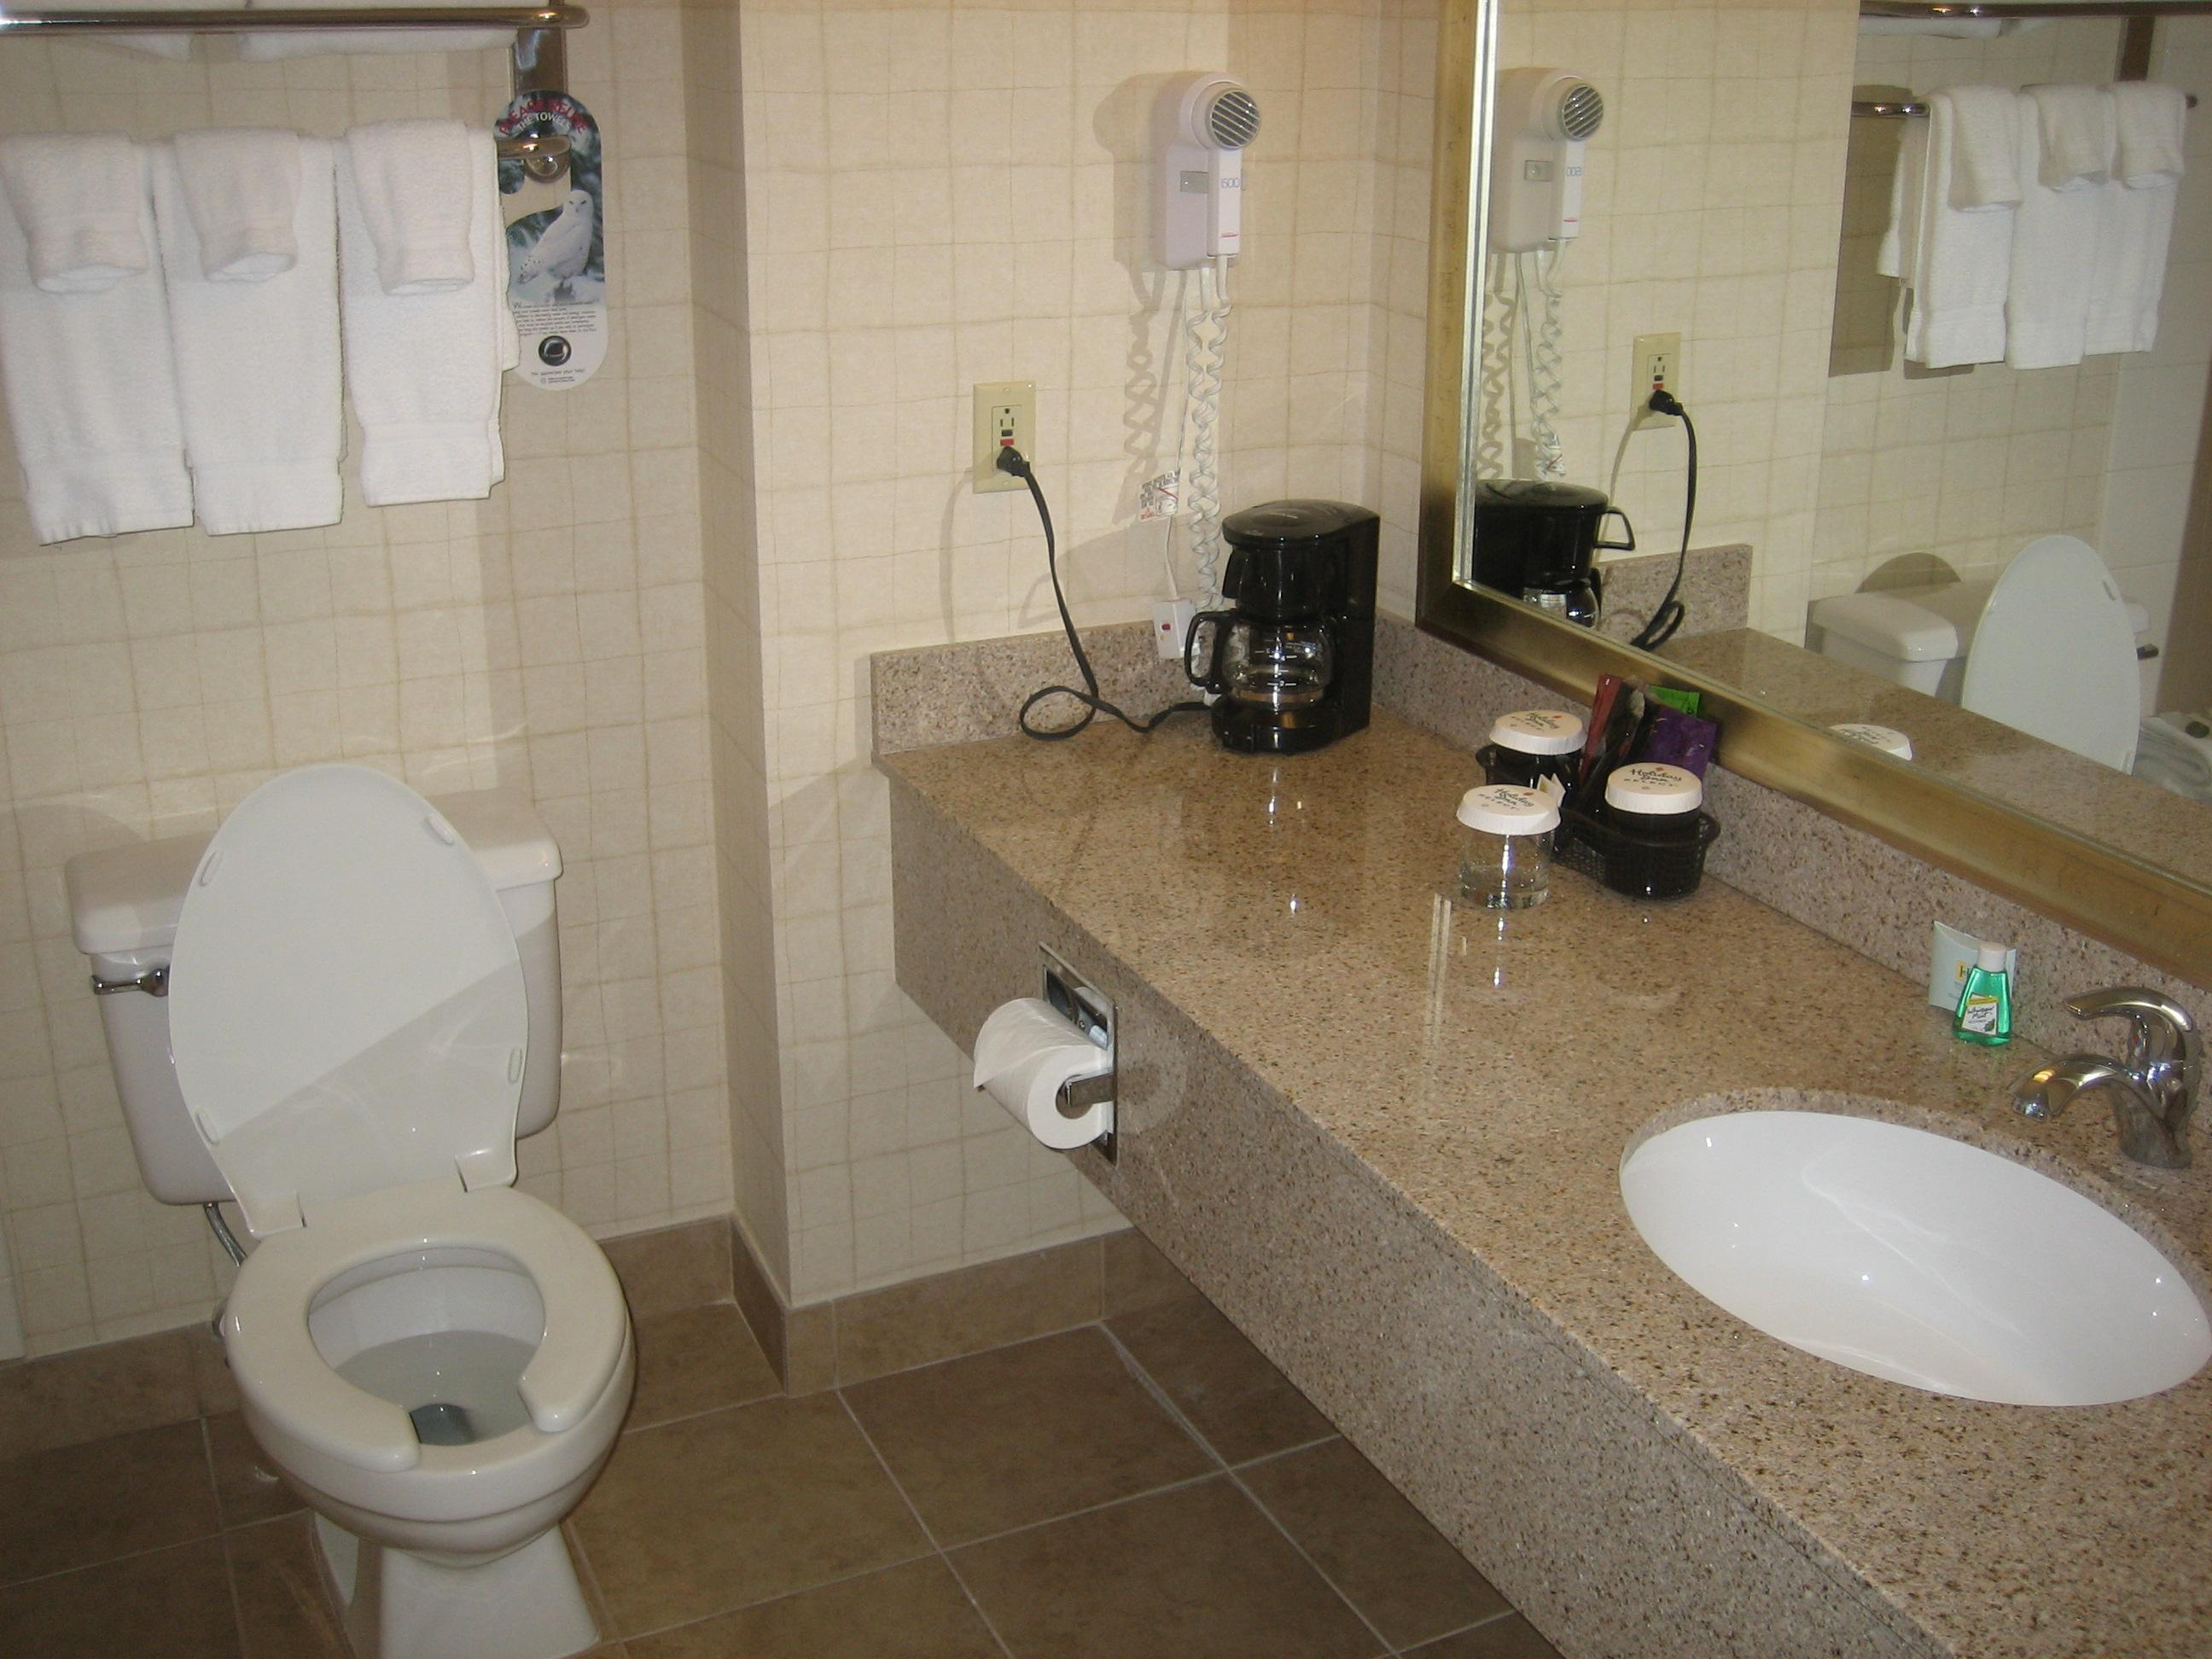Lavamanos: (1611, 951, 2205, 1452)
Sanitario: (59, 746, 662, 1652)
